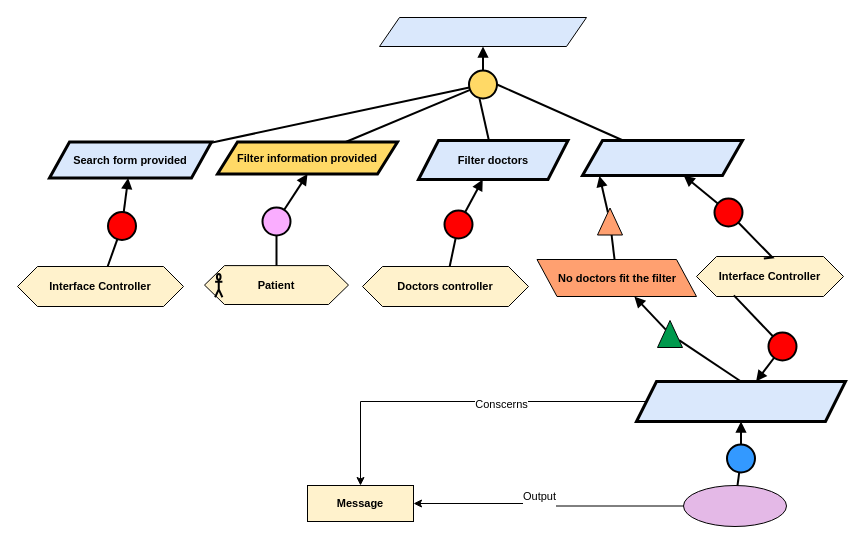
This 864x544 diagram has some shape labels left out. The shapes that lost their labels are listed below. From the top down, each one's box as (x1, y1, x2, y2) in pixels, then its label:
(378, 16, 586, 46): See list of doctors
(580, 138, 744, 176): Display information
(634, 380, 846, 422): Display appropriate message
(682, 484, 786, 526): Display message
